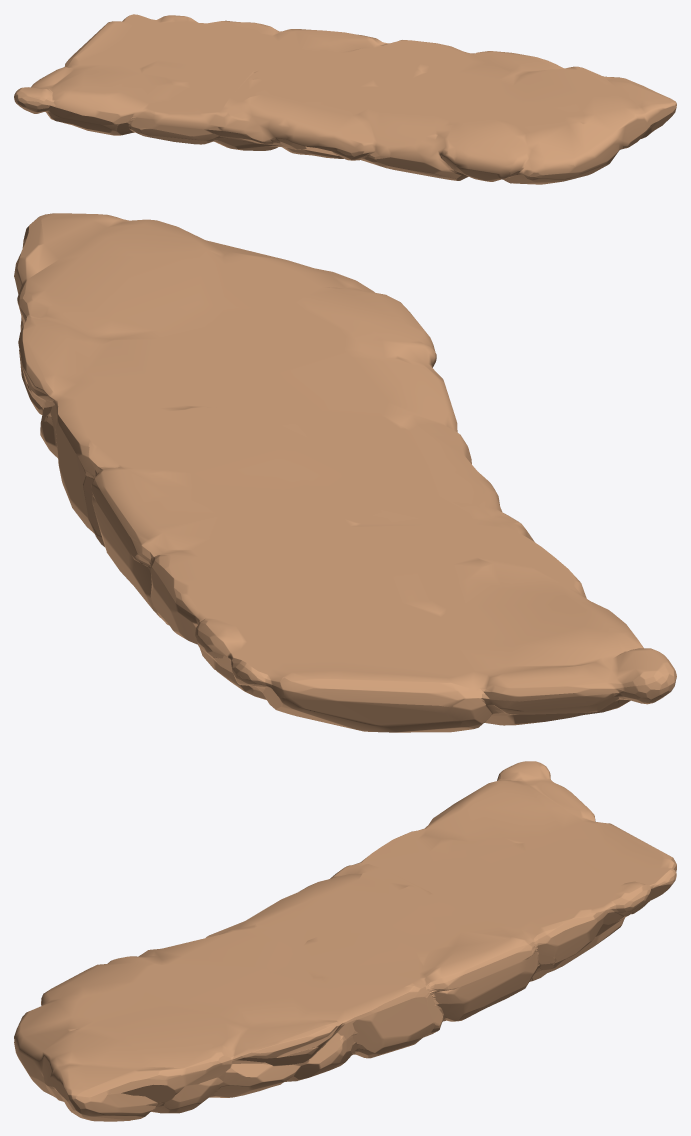
The picture shows the model from 3 angles, top to bottom: view 1: azimuth 30°, elevation 25°; view 2: azimuth 150°, elevation 25°; view 3: azimuth 270°, elevation 25°; orthographic projection. The views are drawn at different scales.
Parts seen in each view (by area): view 1: Mesh_60_LOD0; view 2: Mesh_60_LOD0; view 3: Mesh_60_LOD0.
Boxes of the visible parts, left/top/right/bottom form: Mesh_60_LOD0: left=14, top=14, right=676, bottom=184; Mesh_60_LOD0: left=14, top=213, right=676, bottom=732; Mesh_60_LOD0: left=14, top=761, right=676, bottom=1121.
Size of what is drawn, in the model's own units: 5465 by 611 by 4629.
